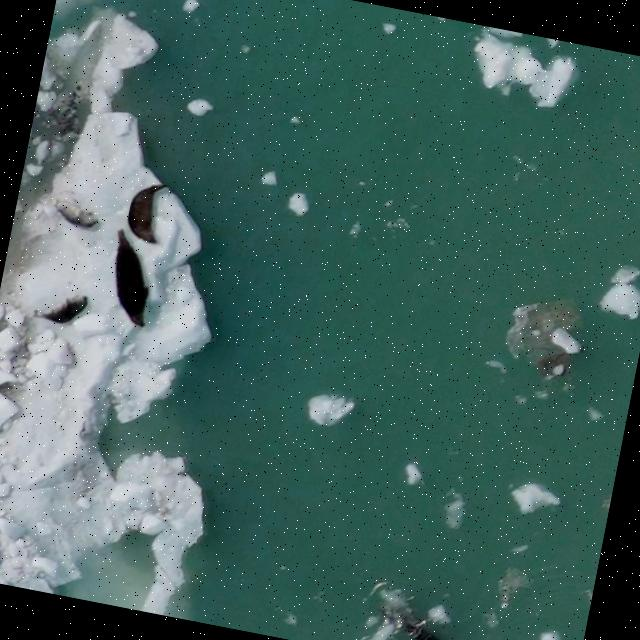seal: (98, 227, 162, 333), (32, 293, 94, 336), (125, 181, 166, 246), (49, 197, 100, 234)
